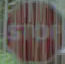Stop: (5, 2, 57, 55)
